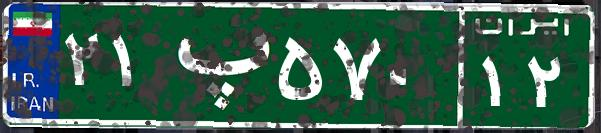0: (385, 28, 445, 110)
1: (475, 38, 525, 113), (110, 28, 158, 105)
2: (57, 26, 110, 107), (525, 38, 570, 115)
5: (273, 28, 330, 110)
7: (330, 28, 385, 110)
پ: (158, 15, 273, 115)
